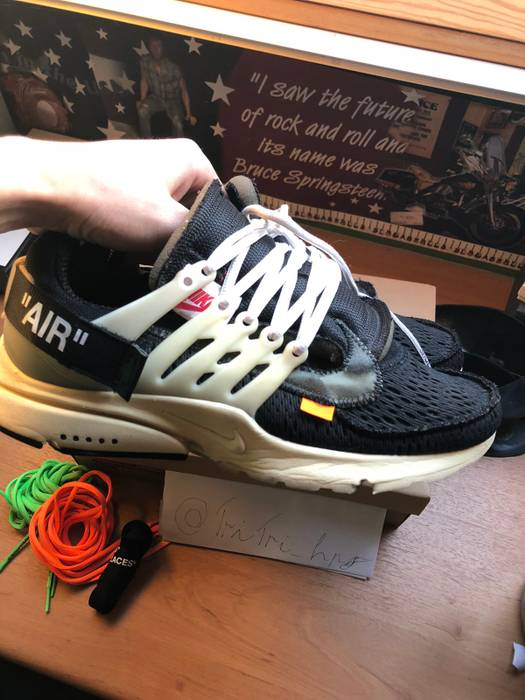Nike x OFF--WHITE Air Presto OG: (1, 175, 509, 496)
